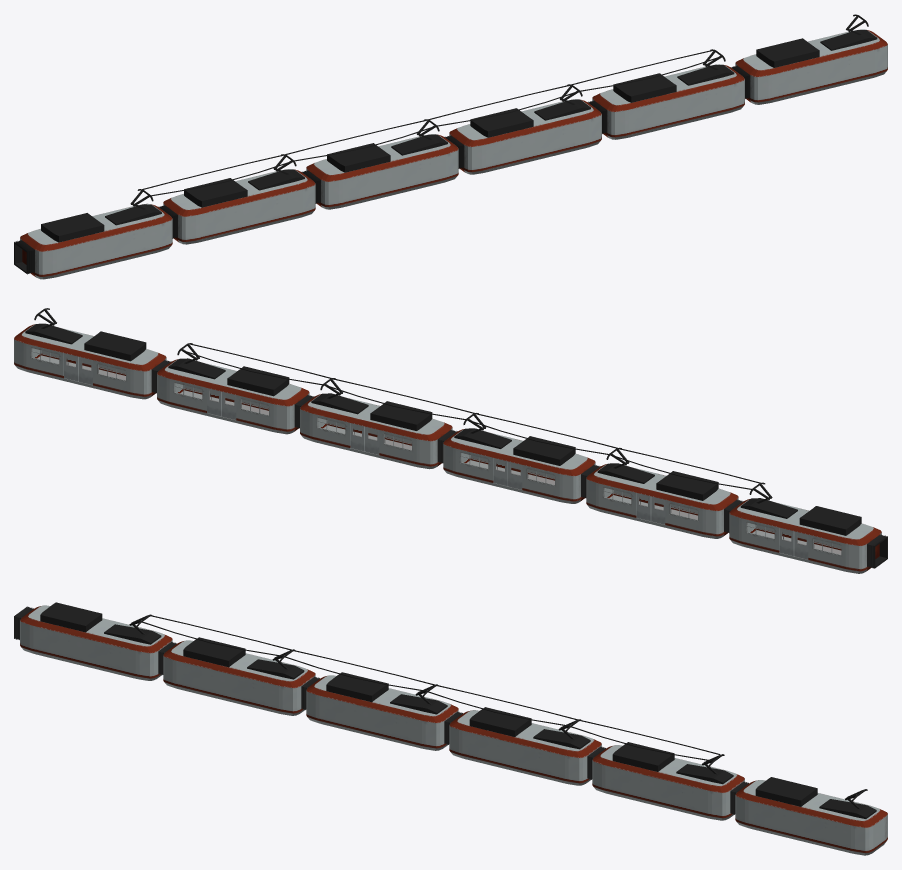
File: Train_menu.fbx
The picture shows the model from 3 angles, top to bottom: view 1: azimuth 30°, elevation 25°; view 2: azimuth 150°, elevation 25°; view 3: azimuth 330°, elevation 25°; orthographic projection.
Parts seen in each view (by area): view 1: Train_Menu, Cable; view 2: Train_Menu, Cable; view 3: Train_Menu, Cable.
Boxes of the visible parts, bbox=[...] form: Train_Menu: bbox=[14, 14, 887, 279]; Cable: bbox=[142, 50, 721, 196]; Train_Menu: bbox=[14, 308, 887, 573]; Cable: bbox=[181, 343, 760, 489]; Train_Menu: bbox=[14, 602, 887, 855]; Cable: bbox=[141, 615, 720, 761].
Bounding box in the file's own units: 11723 × 695 × 560.
